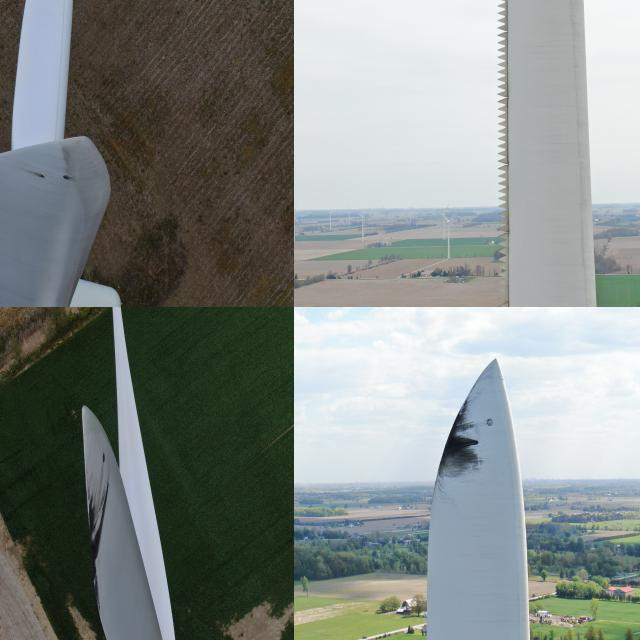damage: (430, 393, 486, 497), (78, 464, 116, 574), (34, 167, 46, 183)
